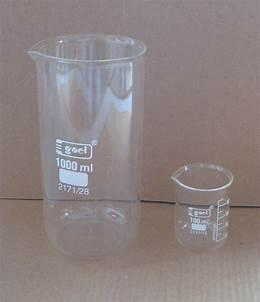Beaker: (22, 25, 146, 259), (168, 156, 233, 249)
